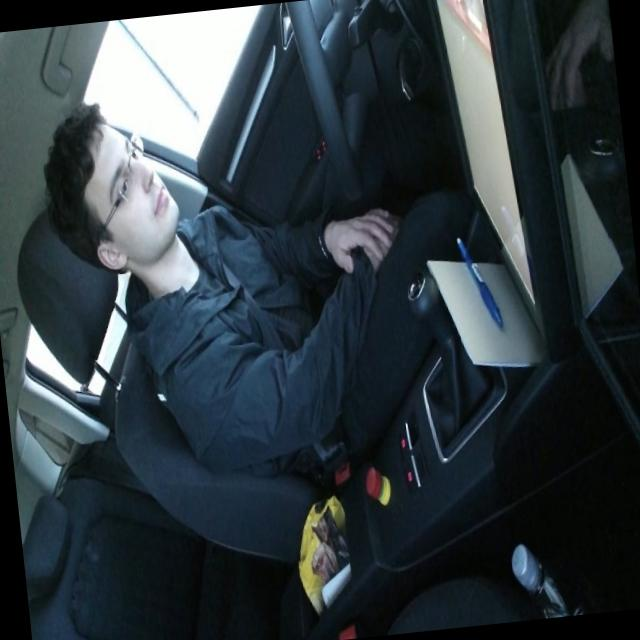pen: (454, 229, 504, 332)
